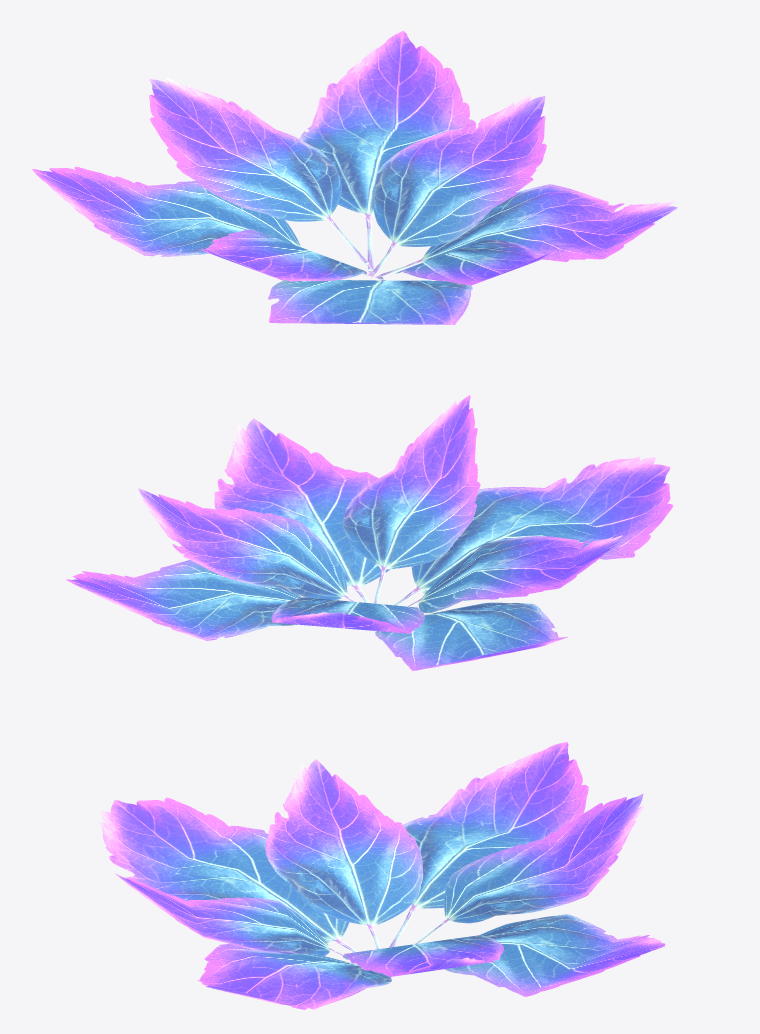
The picture shows the model from 3 angles, top to bottom: view 1: azimuth 30°, elevation 25°; view 2: azimuth 150°, elevation 25°; view 3: azimuth 270°, elevation 25°; orthographic projection.
Visible parts, largest first — view 1: Glowy flower Purple; view 2: Glowy flower Purple; view 3: Glowy flower Purple.
Part boxes in pixels (left/top/right/bottom): Glowy flower Purple: left=32, top=31, right=677, bottom=324; Glowy flower Purple: left=66, top=395, right=673, bottom=670; Glowy flower Purple: left=100, top=741, right=665, bottom=1009.
Bounding box in the file's own units: 0.8285 × 0.182 × 0.8285.
Materials: 1 (1 with a texture image).
